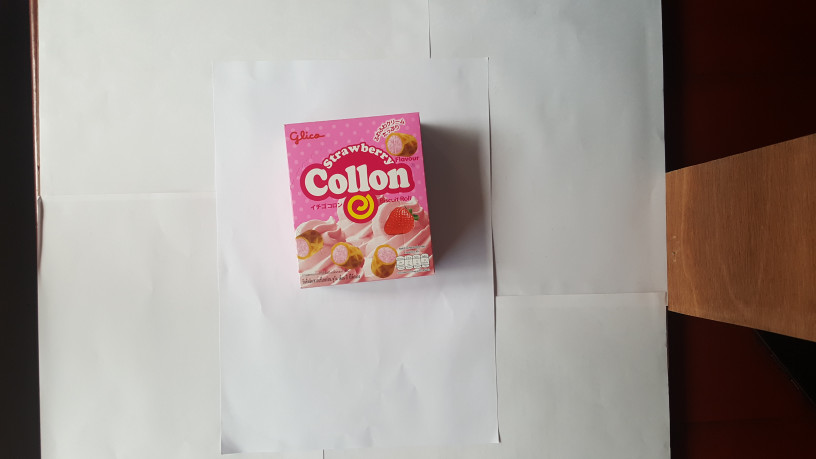collon-strawberry: (278, 111, 437, 294)
